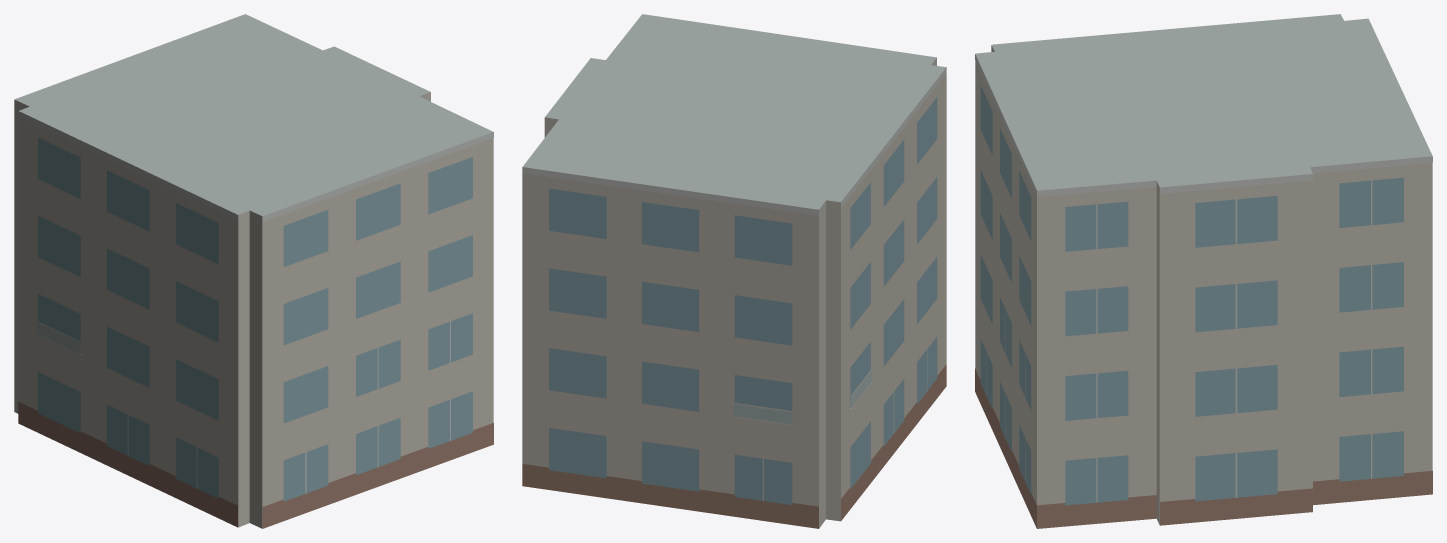
The model's file is survey-upis-32680144.glb.
The picture shows the model from 3 angles, left to right: view 1: azimuth 30°, elevation 25°; view 2: azimuth 150°, elevation 25°; view 3: azimuth 270°, elevation 25°; orthographic projection. The views are drawn at different scales.
Parts seen in each view (by area): view 1: survey-upis-32680144.tmp; view 2: survey-upis-32680144.tmp; view 3: survey-upis-32680144.tmp.
Boxes of the visible parts, x1,y1,x2,y2 form: survey-upis-32680144.tmp: (14,14,493,528); survey-upis-32680144.tmp: (522,14,946,528); survey-upis-32680144.tmp: (975,14,1432,528).
Bounding box in the file's own units: 14.25 × 12.7 × 15.59.
